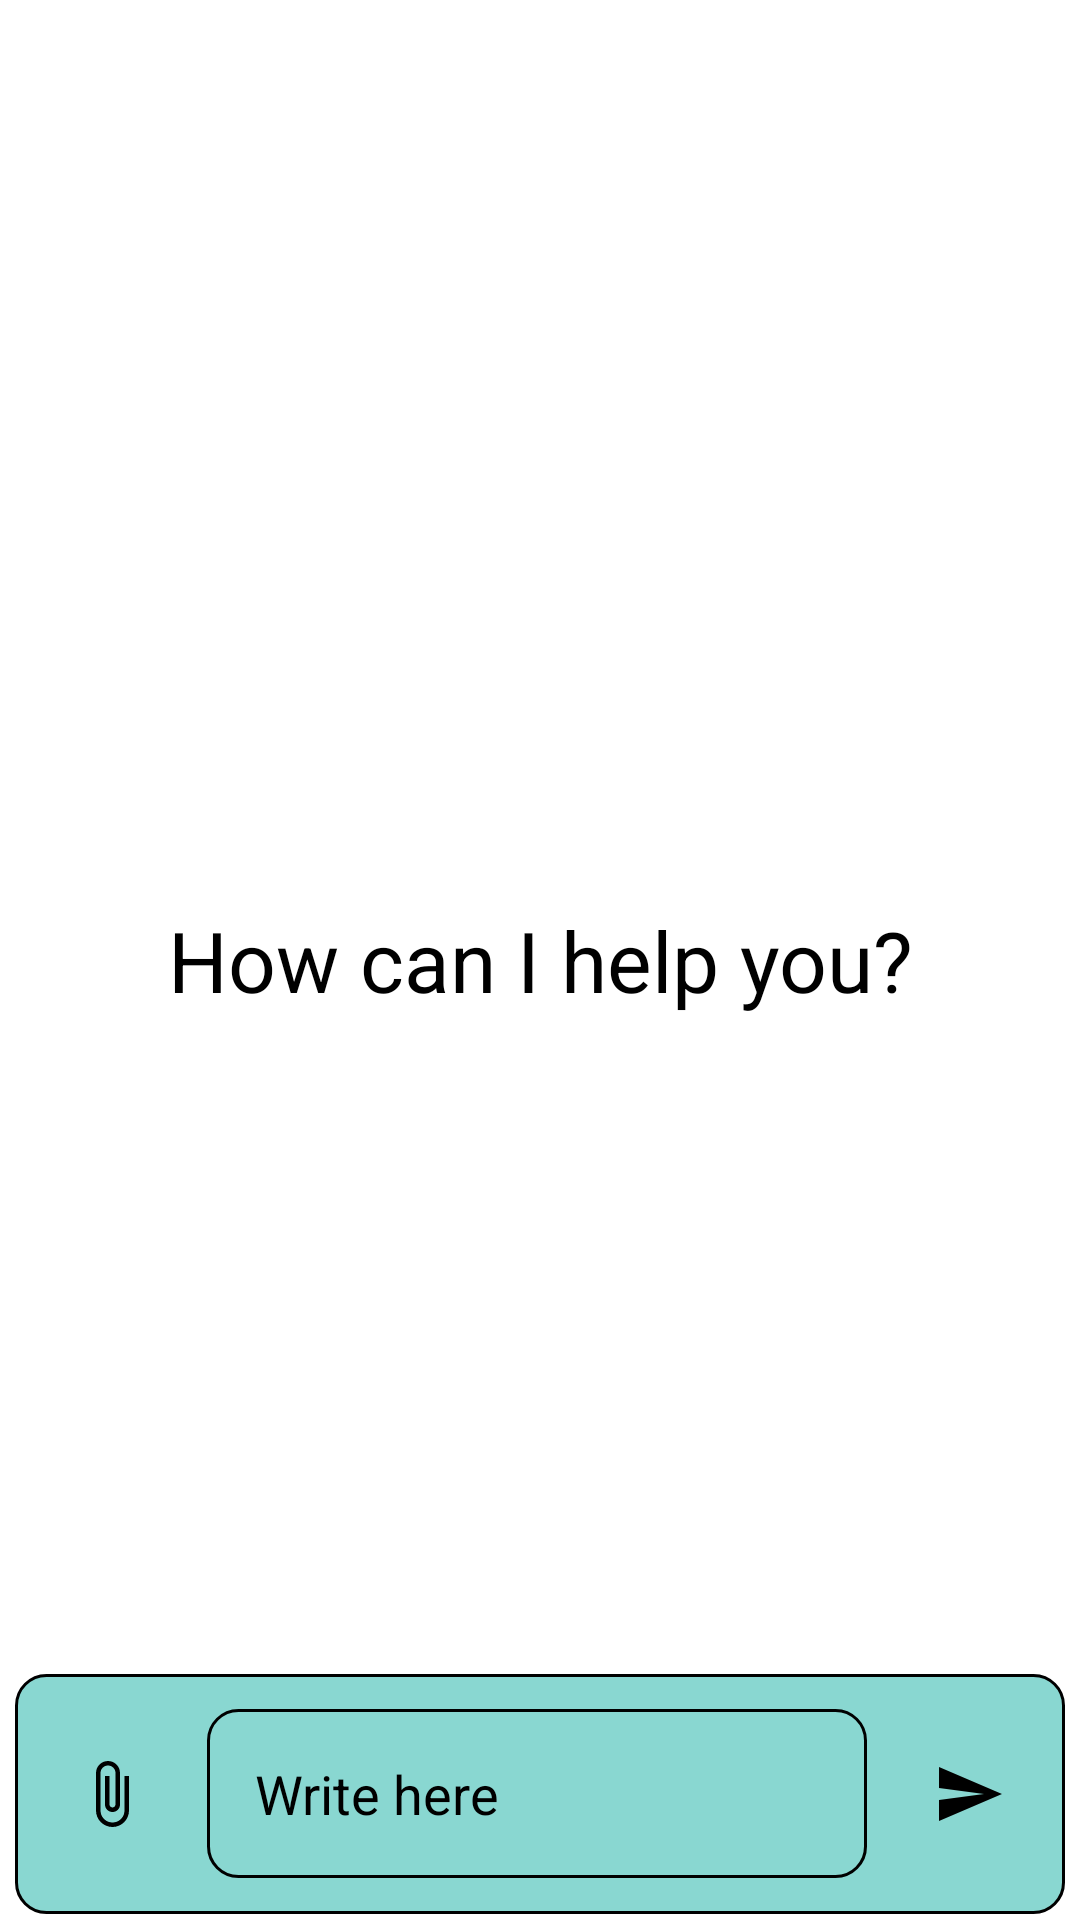

Named icons in this screenshot (1080w x 1920h) and their centers, (x=x, y=y):
send: (x=970, y=1794)
Upload File: (x=112, y=1794)
